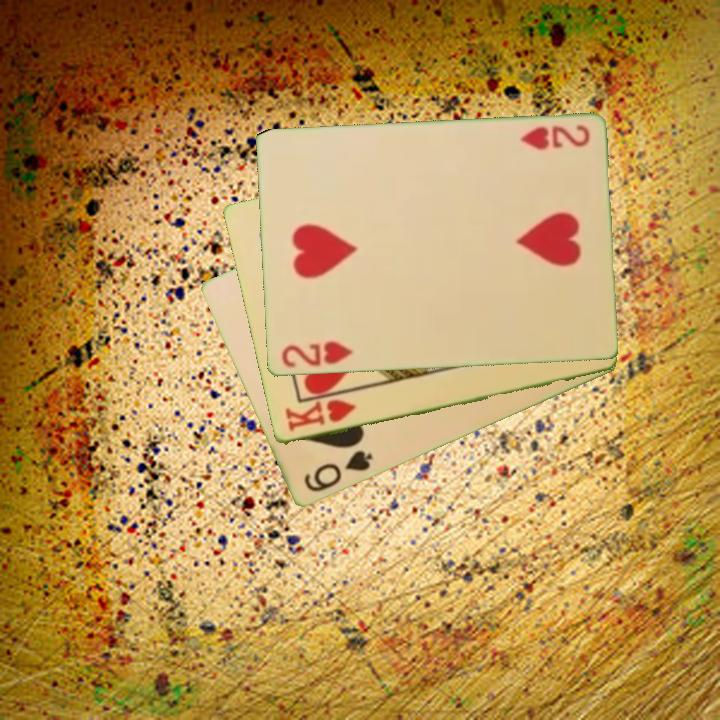2h: (277, 337, 355, 371), (517, 121, 593, 154)
6s: (299, 447, 375, 496)
Kh: (281, 396, 359, 435)
